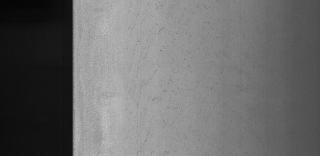silk spot: (123, 5, 205, 121)
